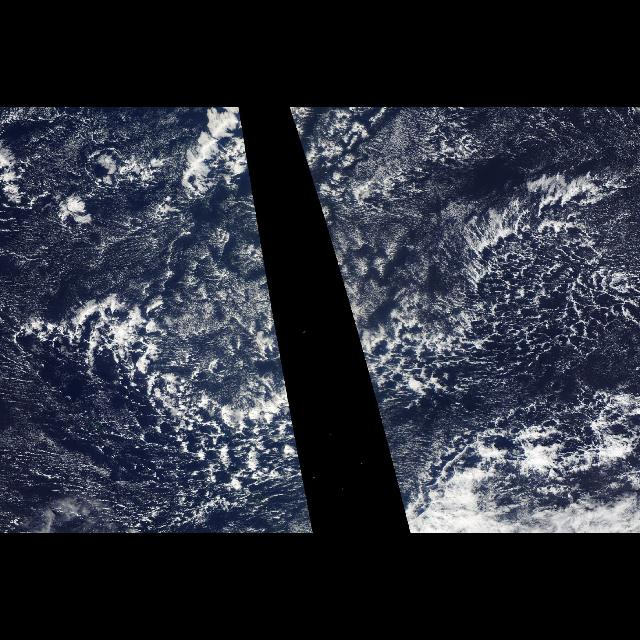Gravel: (293, 119, 637, 533), (0, 119, 314, 533)
